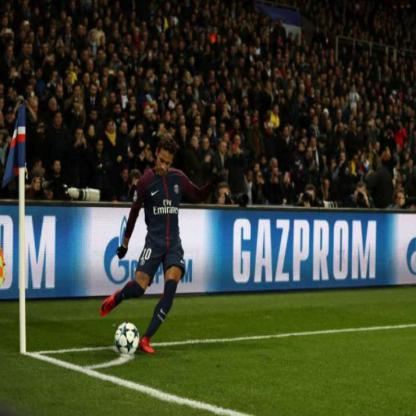corner kick: (7, 79, 195, 383)
